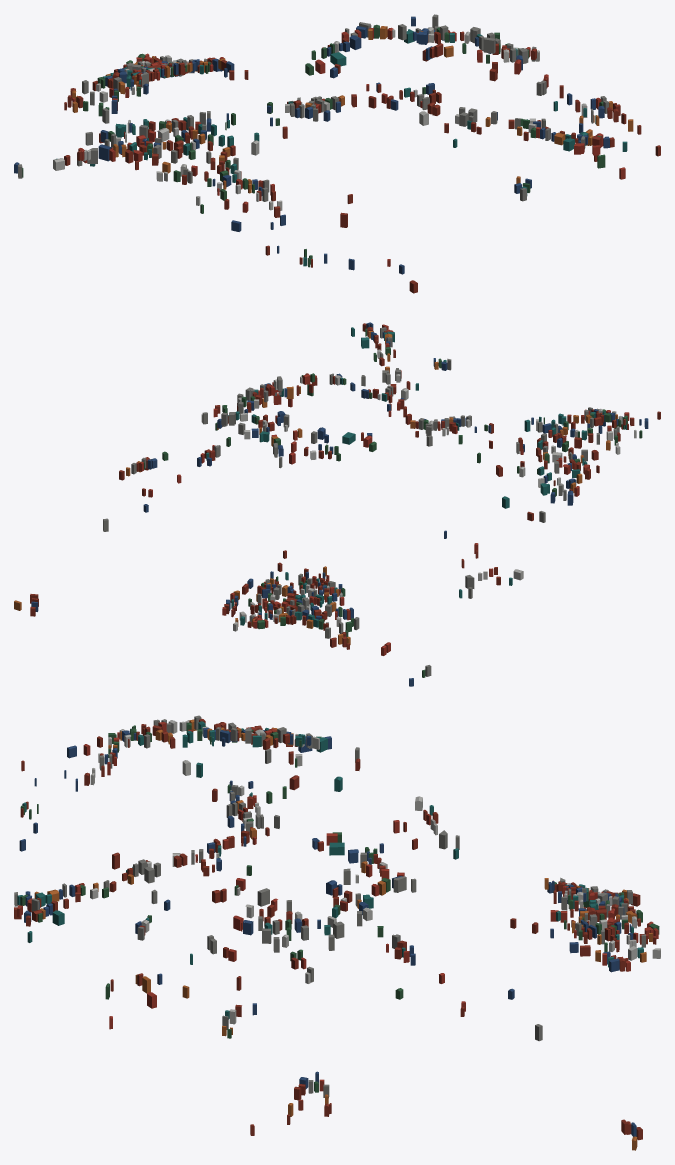
Rendered from near-15-27367-14871.e15110a7.glb.
The picture shows the model from 3 angles, top to bottom: view 1: azimuth 30°, elevation 25°; view 2: azimuth 150°, elevation 25°; view 3: azimuth 270°, elevation 25°; orthographic projection. The views are drawn at different scales.
Bounding box in the file's own units: 1179 × 397 × 1172.
